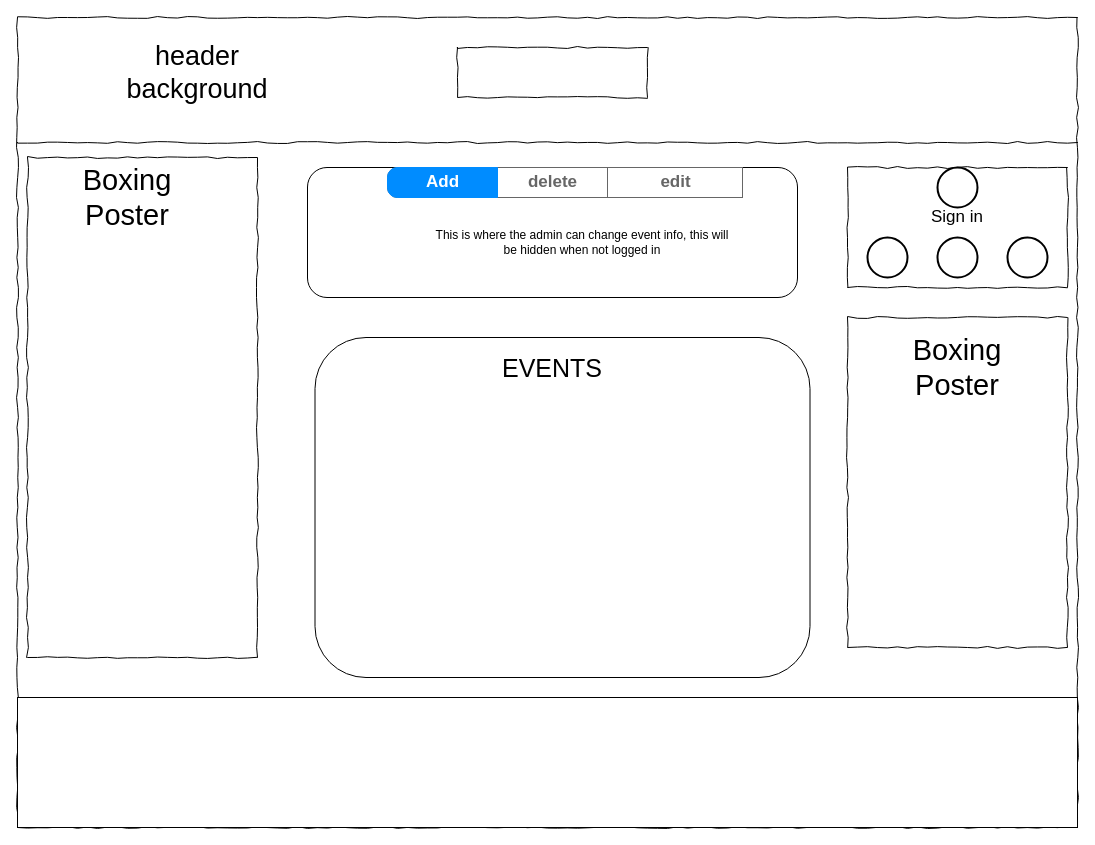
Some shapes in this 1095 by 845 pixel diagram are drawn without their labels. Each missing label, with the centre of its shape:
Footer: (547,762)
LOGO: (552,72)
